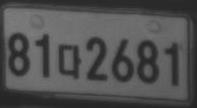1: (162, 41, 185, 85), (33, 33, 54, 77)
2: (86, 36, 108, 81)
6: (110, 38, 135, 82)
8: (136, 40, 160, 83), (8, 32, 30, 76)
다: (58, 44, 81, 79)
